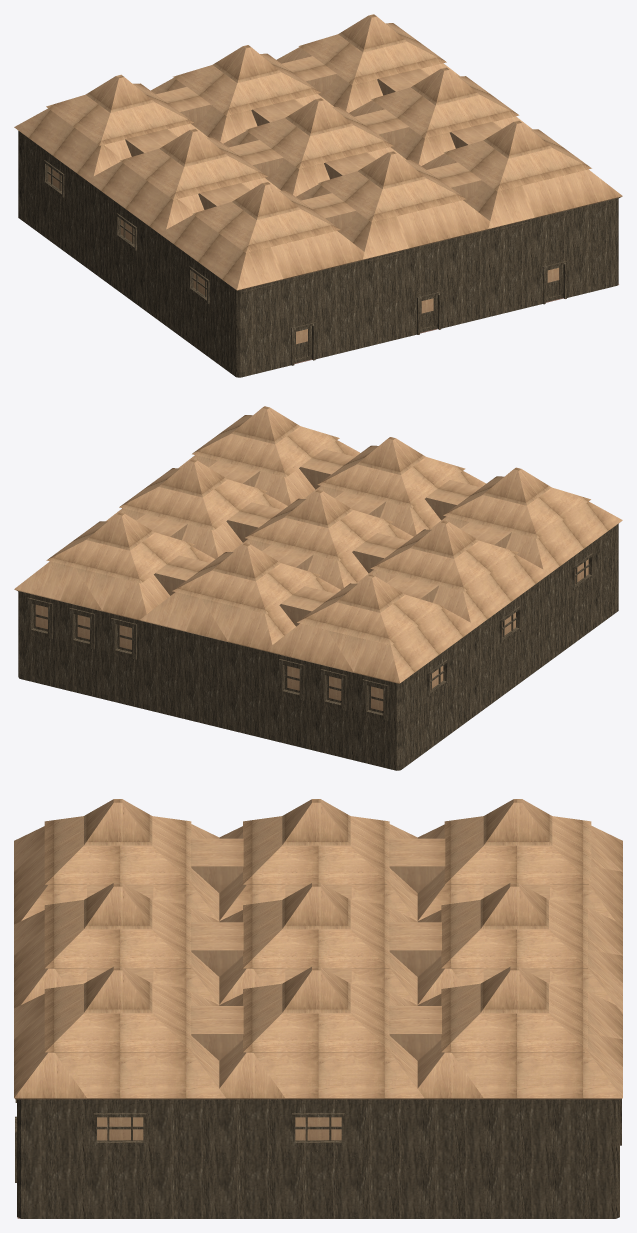
Rendered from House-Final.obj.
3 views of the same model, one above another, from view 1: azimuth 30°, elevation 25°; view 2: azimuth 150°, elevation 25°; view 3: azimuth 270°, elevation 25° (orthographic). The views are drawn at different scales.
Visible parts, largest first — view 1: mergedBlocks; view 2: mergedBlocks; view 3: mergedBlocks.
Boxes of the visible parts, x1=… form: mergedBlocks: x1=14, y1=14, x2=622, y2=377; mergedBlocks: x1=14, y1=406, x2=622, y2=770; mergedBlocks: x1=14, y1=799, x2=622, y2=1218.
Size of the model in its own units: 9.21 by 3.46 by 9.21.
12 materials, 11 textured.
